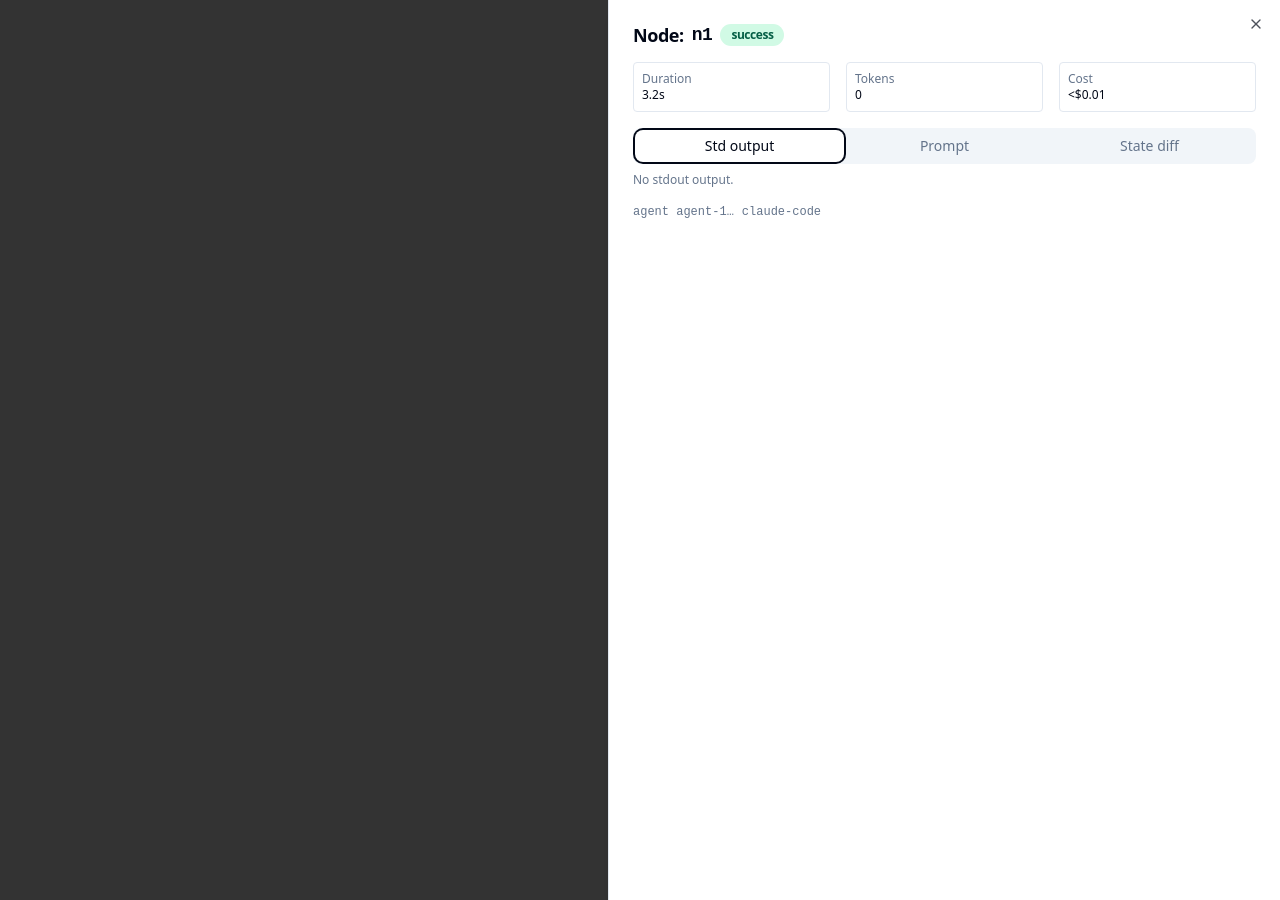
Test: NodeDetailPanel — Prompt tab › shows a placeholder when an LLM node recorded no prompt
Click the tab "Prompt": (944, 146) [842, 132, 1047, 160]
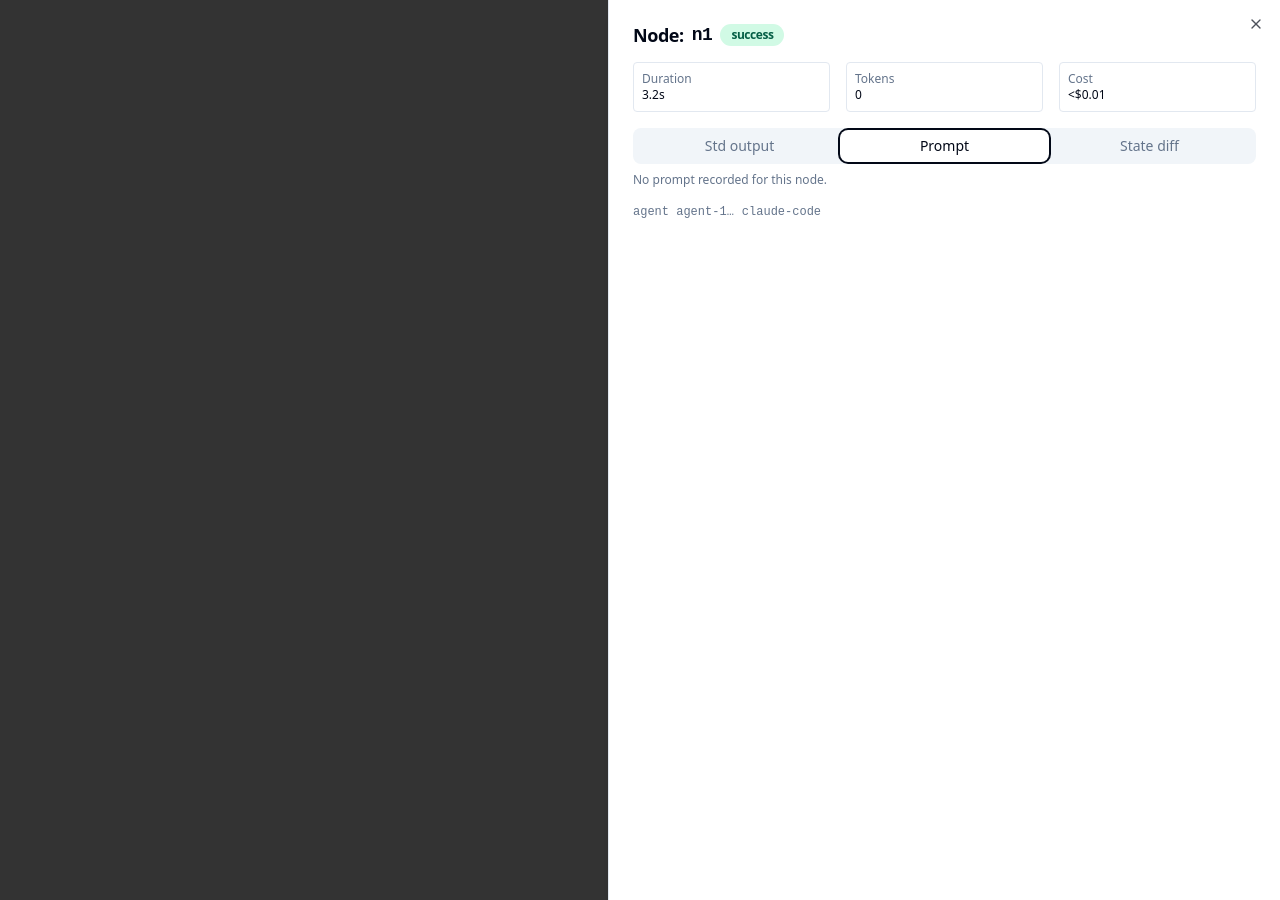
Now the text "No prompt recorded for this node." is shown, box [633, 171, 827, 188]
